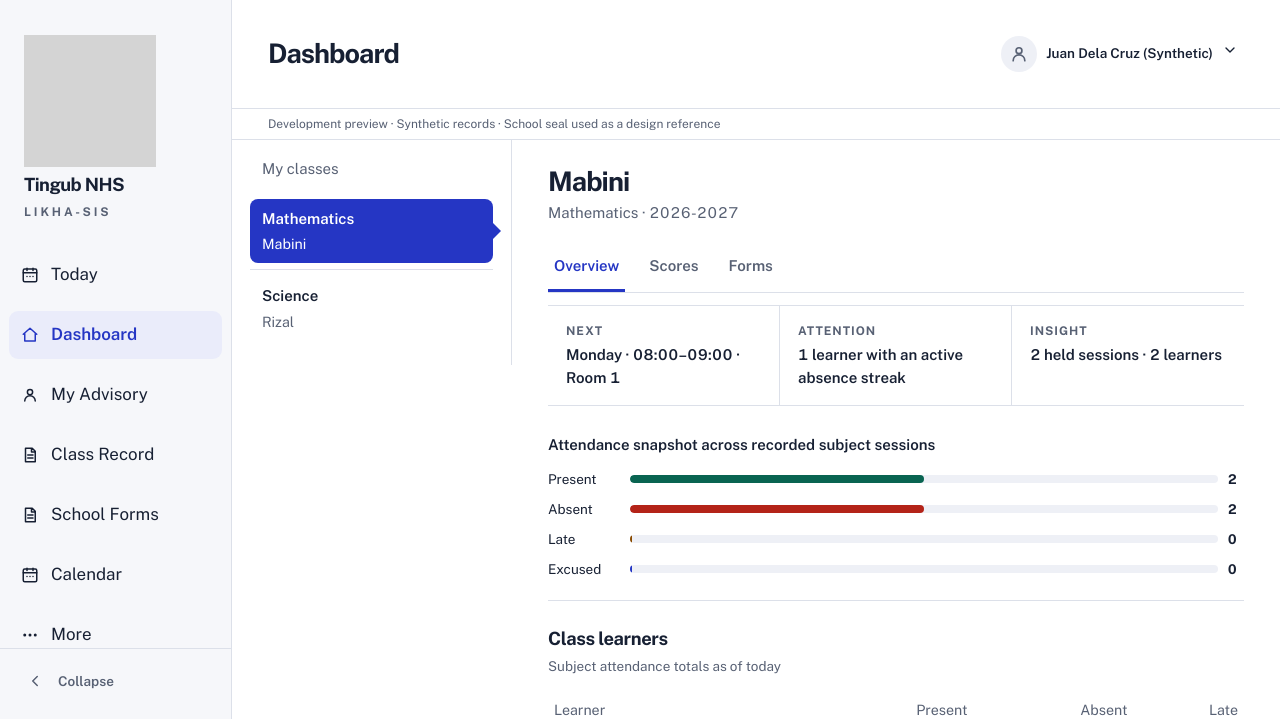
it: DevPreviewApp — new fixture destinations render › renders authorized Teaching Assignments and Class Schedule via Sections
The image size is (1280, 719).
Step 1. Click the button "More" → x=116, y=635, box [9, 611, 222, 659]
(page scrolled)
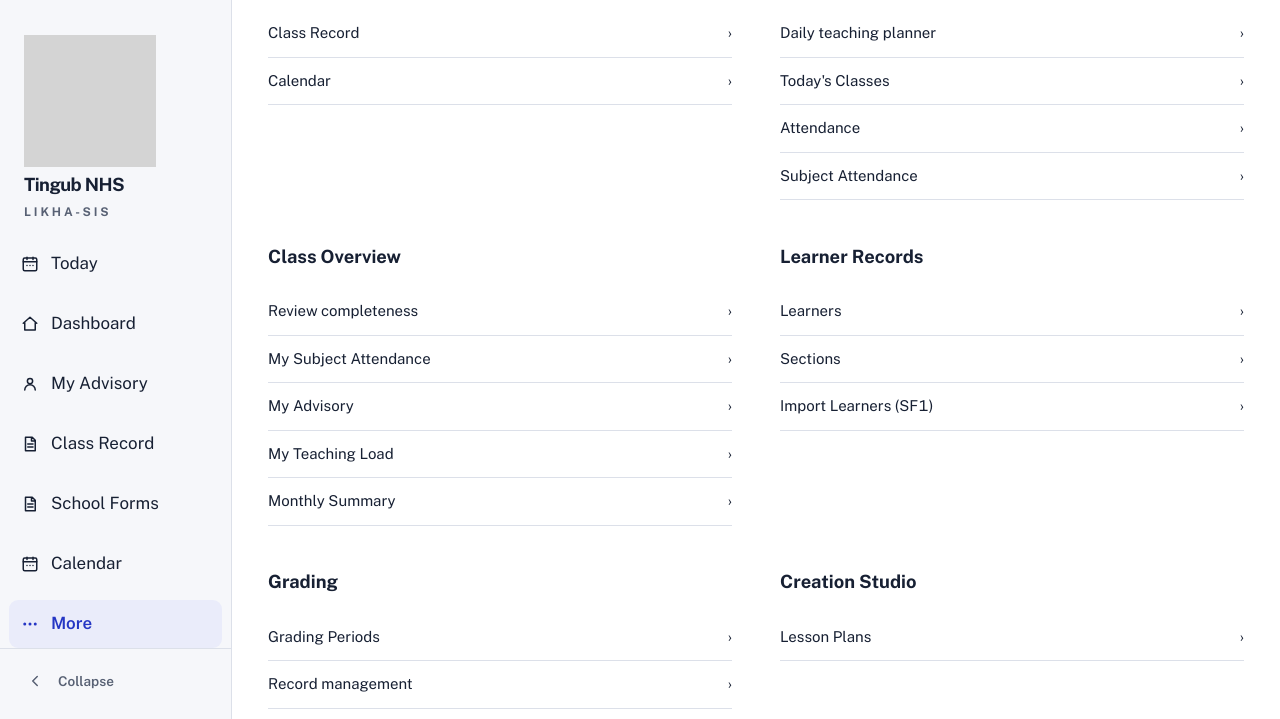
Step 2. Click the button "Sections ›" → x=810, y=358, box [780, 336, 1244, 383]
(page scrolled)
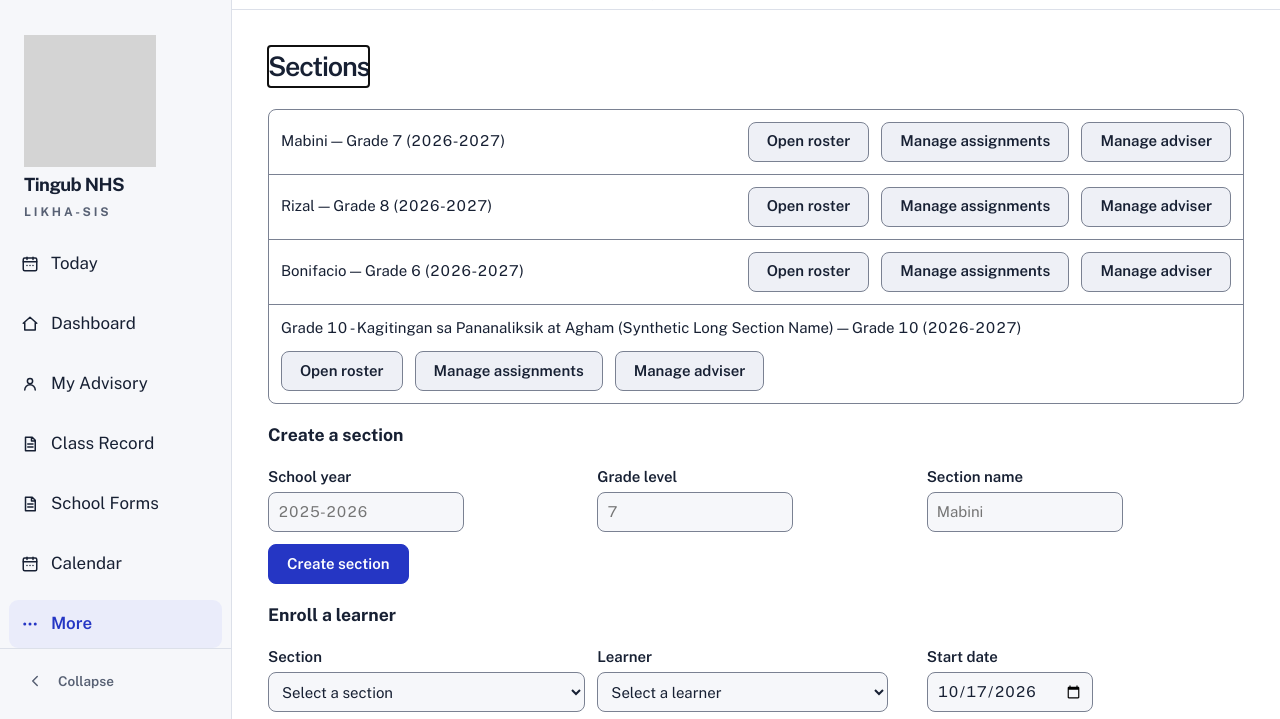
Step 3. Click the button with aria-label "Manage teaching assignments for Mabini" → x=975, y=142, box [881, 122, 1069, 162]
(page scrolled)
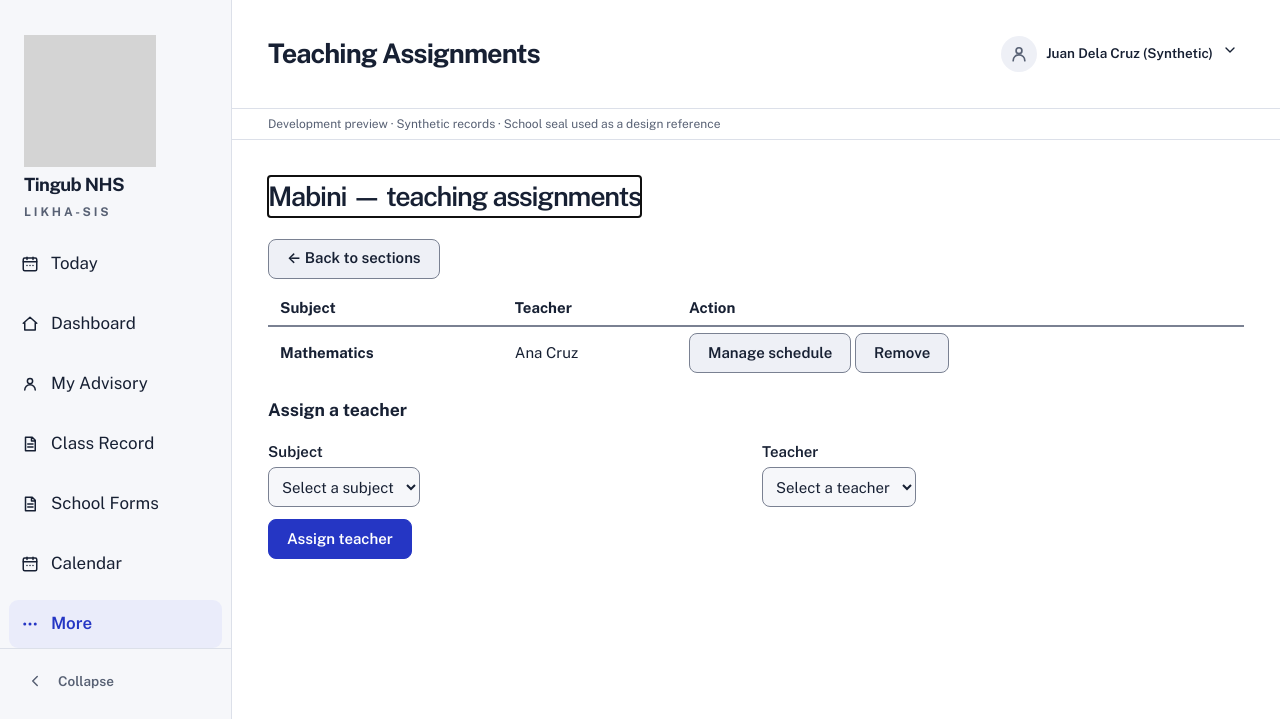
Result: the heading "Mabini — teaching assignments" is shown at [268, 176, 641, 216]
Step 4. Click the button with aria-label "Manage schedule for Mathematics" → x=770, y=353, box [689, 333, 851, 373]
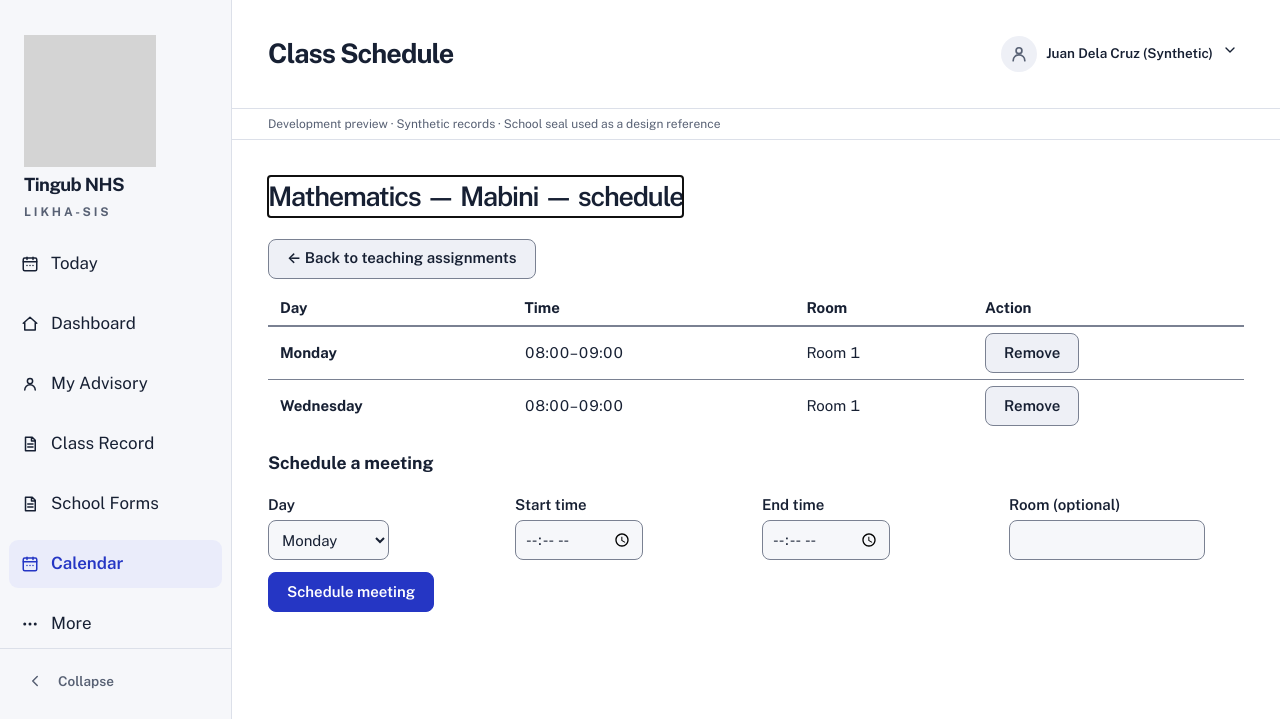
Result: the heading "Mathematics — Mabini — schedule" is shown at [268, 176, 684, 216]
